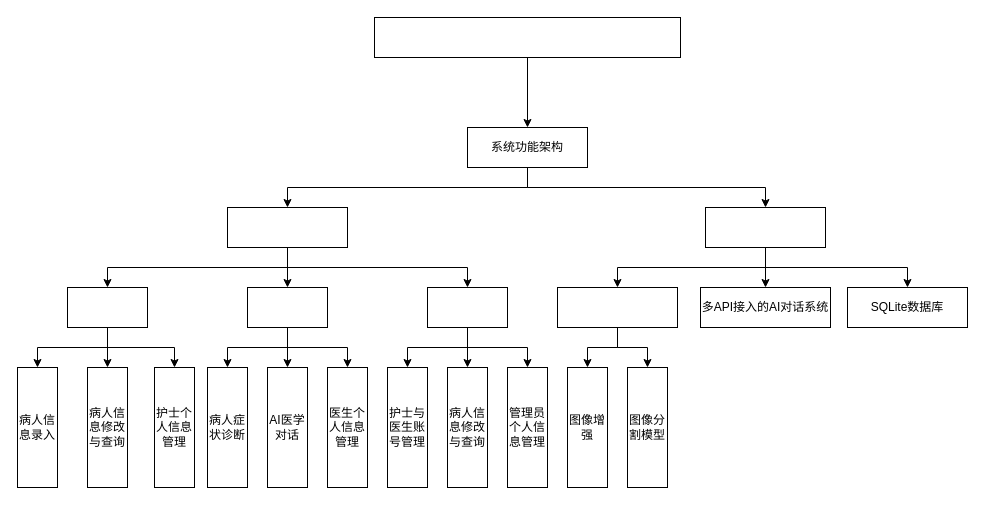
Some shapes in this 985 by 505 pixel diagram are drawn without their labels. The shapes that lost their labels are listed below. From the top down, each one's centre as x and y in pixels, then its label:
At (x=527, y=37): "视网灵眸 ——智能化视网膜筛查与影像分析系统".
At (x=287, y=227): "前端".
At (x=765, y=227): "后端".
At (x=107, y=307): "护士端".
At (x=287, y=307): "医生端".
At (x=467, y=307): "管理员端".
At (x=617, y=307): "云服务器部署模型".
